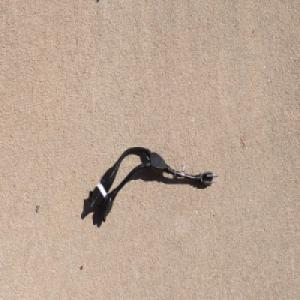Wire: (87, 145, 219, 224)
